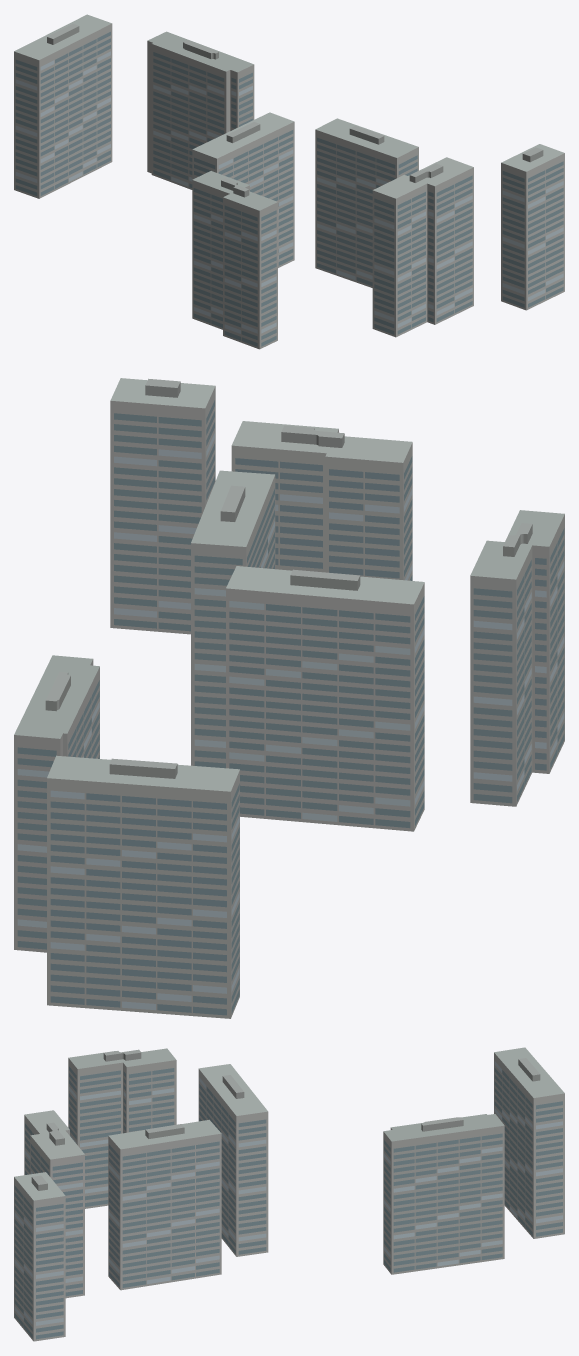
Rendered from apt-a13272201.glb.
3 views of the same model, one above another, from view 1: azimuth 30°, elevation 25°; view 2: azimuth 150°, elevation 25°; view 3: azimuth 270°, elevation 25° (orthographic). The views are drawn at different scales.
Visible parts, largest first — view 1: apt-a13272201; view 2: apt-a13272201; view 3: apt-a13272201.
Part boxes in pixels (x1=…): apt-a13272201: x1=14, y1=14, x2=564, y2=349; apt-a13272201: x1=14, y1=378, x2=564, y2=1018; apt-a13272201: x1=14, y1=1047, x2=564, y2=1341.
Size of the model in its own units: 130 by 58 by 197.
